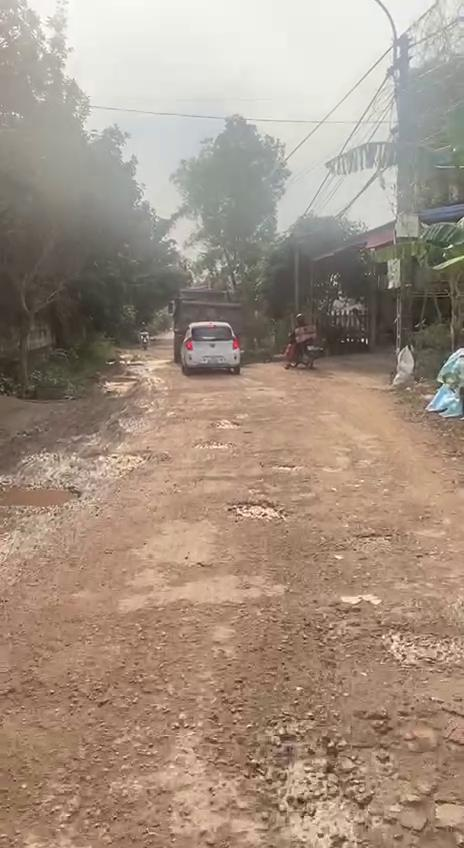pothole: (274, 705, 464, 848), (376, 620, 464, 677), (0, 480, 85, 512), (225, 497, 286, 526)
